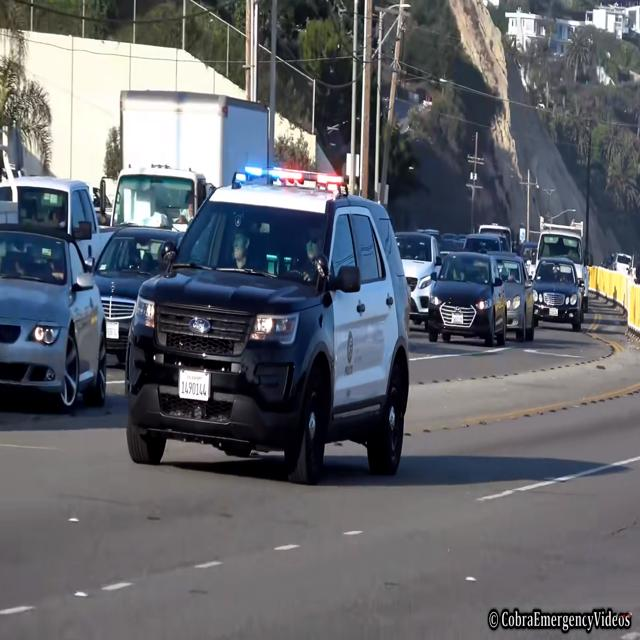emergency-vehicles: (120, 168, 412, 488)
